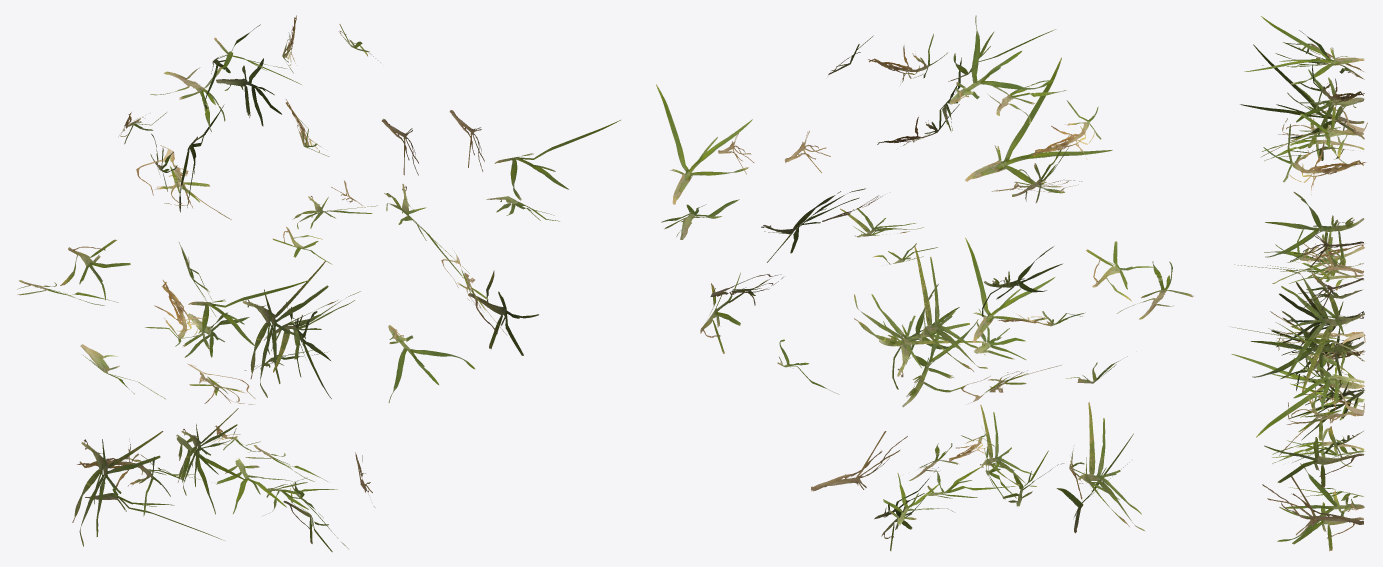
The model's file is Grass_01_Var2_LOD0.fbx.
3 renders of one model, left to right at view 1: azimuth 30°, elevation 25°; view 2: azimuth 150°, elevation 25°; view 3: azimuth 270°, elevation 25°, orthographic. The views are drawn at different scales.
Parts seen in each view (by area): view 1: Var2_LOD0; view 2: Var2_LOD0; view 3: Var2_LOD0.
Boxes of the visible parts, x1,y1,x2,y2 form: Var2_LOD0: [17, 15, 620, 552]; Var2_LOD0: [656, 15, 1193, 550]; Var2_LOD0: [1230, 16, 1367, 551].
Size of the model in its own units: 86.36 by 78.5 by 20.69.
